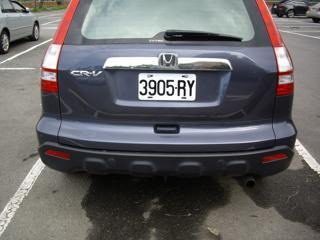plate: (137, 72, 196, 102)
